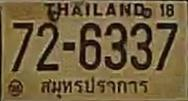2: (36, 22, 58, 70)
3: (104, 22, 126, 69), (130, 22, 151, 69)
6: (79, 22, 100, 69)
7: (155, 22, 177, 70), (12, 22, 32, 71)
SPK: (37, 73, 151, 98)
